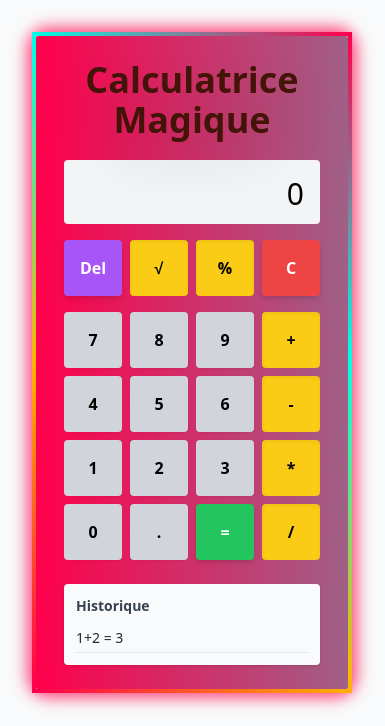
Scenario: Calculatrice › calcule racine carrée √
The image size is (385, 726).
// Tape "9" puis racine carrée
Click the button "9": (225, 340) x1=196 y1=312 x2=254 y2=368
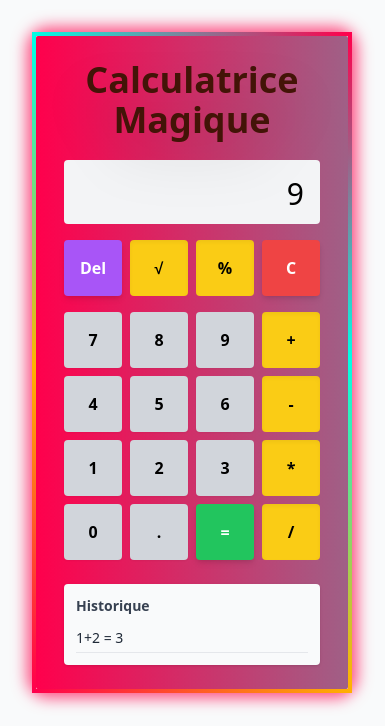
Click the button "√": (159, 268) x1=130 y1=240 x2=188 y2=296
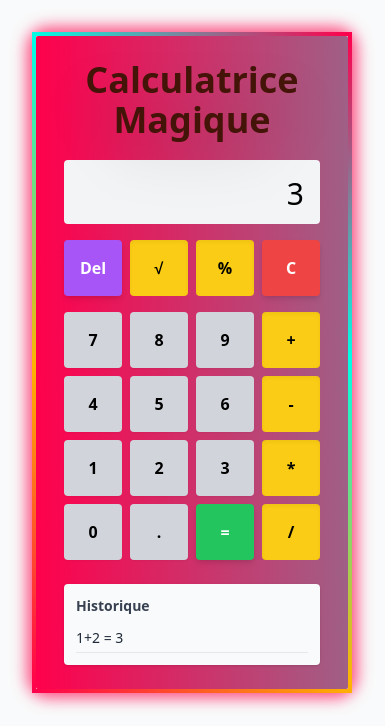
expect the text with test id "display" reads "3": met, box x1=287 y1=173 x2=304 y2=214
